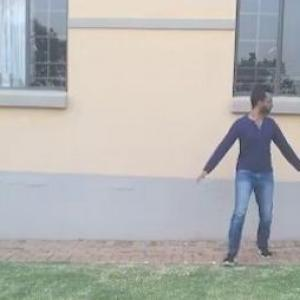land: (190, 81, 299, 272)
